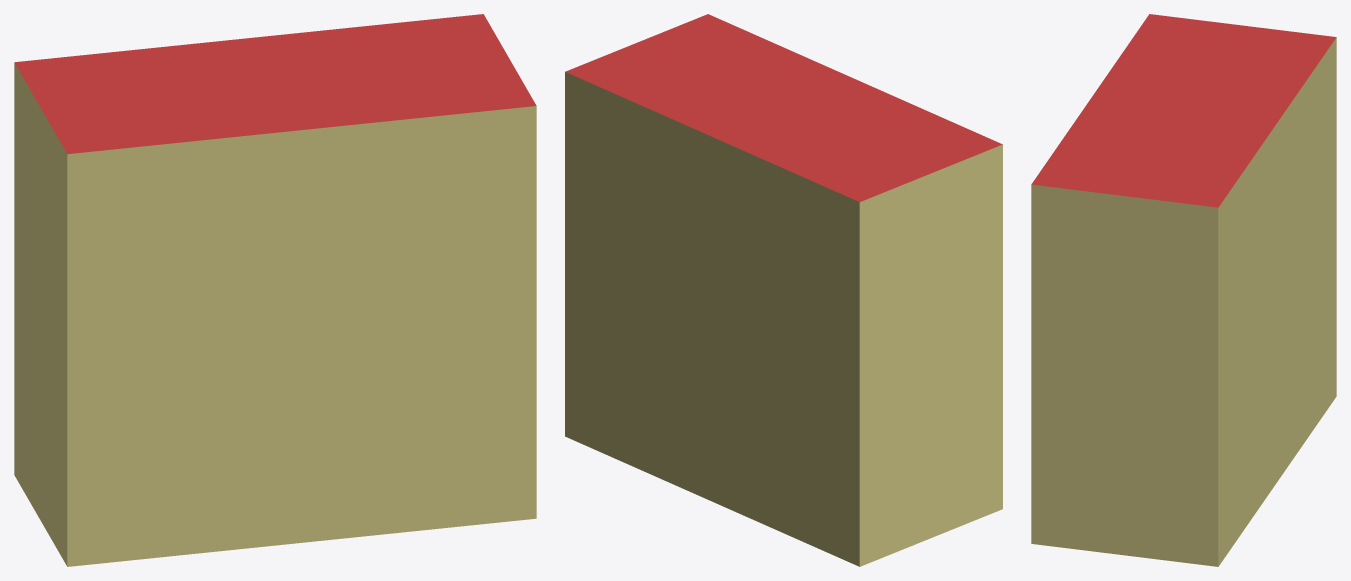
3 views of the same model, side by side, from view 1: azimuth 30°, elevation 25°; view 2: azimuth 150°, elevation 25°; view 3: azimuth 270°, elevation 25° (orthographic). The views are drawn at different scales.
Bounding box in the file's own units: 5.96 × 3.97 × 5.15.
